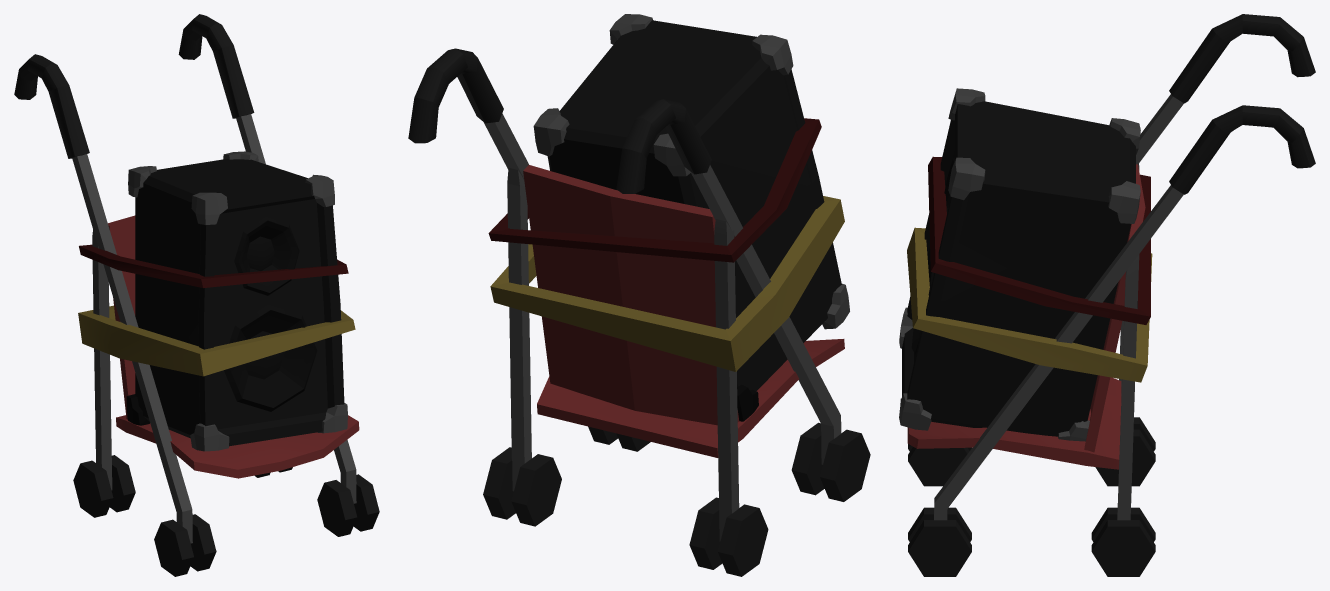
Rendered from Lauri_Speakerpram.fbx.
3 renders of one model, left to right at view 1: azimuth 30°, elevation 25°; view 2: azimuth 150°, elevation 25°; view 3: azimuth 270°, elevation 25°, orthographic. The views are drawn at different scales.
Visible parts, largest first — view 1: Lauri_SpeakerPram; view 2: Lauri_SpeakerPram; view 3: Lauri_SpeakerPram.
Boxes of the visible parts, x1=… form: Lauri_SpeakerPram: x1=14, y1=14, x2=379, y2=576; Lauri_SpeakerPram: x1=408, y1=14, x2=870, y2=576; Lauri_SpeakerPram: x1=899, y1=14, x2=1315, y2=576.
Size of the model in its own units: 48.17 by 94.82 by 77.46.
